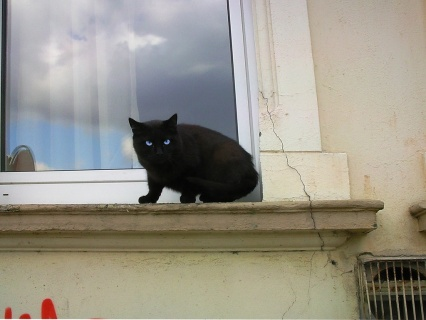Cat: (128, 110, 260, 203)
